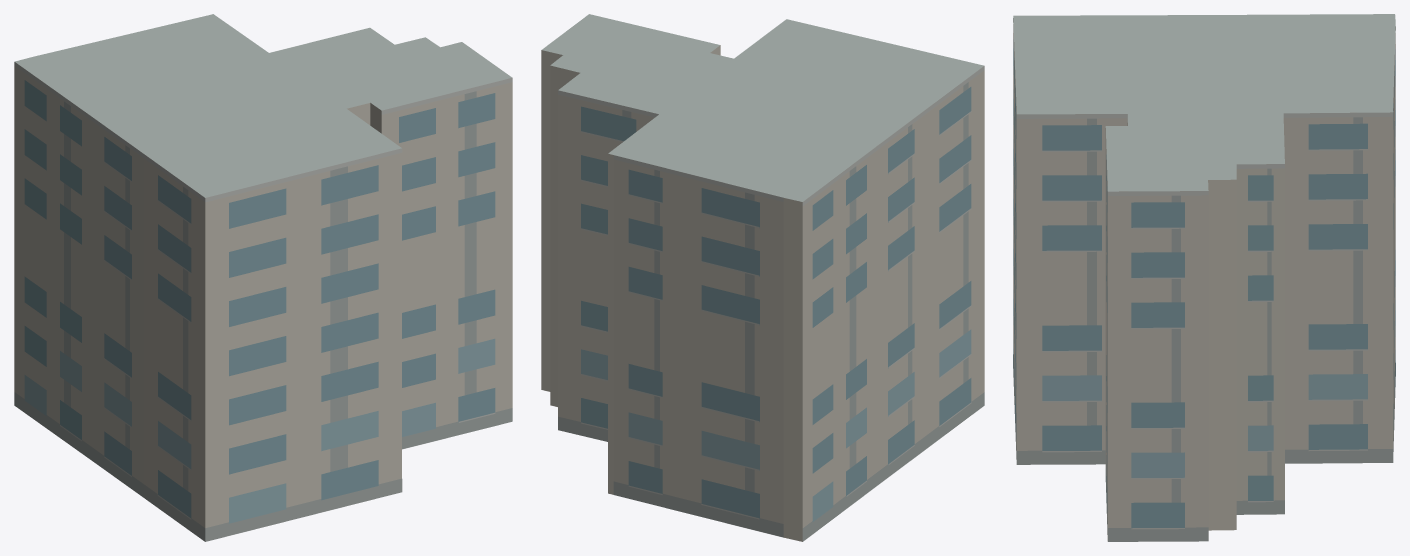
Rendered from survey-upis-32665249.glb.
The picture shows the model from 3 angles, left to right: view 1: azimuth 30°, elevation 25°; view 2: azimuth 150°, elevation 25°; view 3: azimuth 270°, elevation 25°; orthographic projection. The views are drawn at different scales.
Visible parts, largest first — view 1: survey-upis-32665249.tmp; view 2: survey-upis-32665249.tmp; view 3: survey-upis-32665249.tmp.
Part boxes in pixels (bbox=[...]): survey-upis-32665249.tmp: bbox=[14, 14, 512, 541]; survey-upis-32665249.tmp: bbox=[541, 14, 984, 541]; survey-upis-32665249.tmp: bbox=[1013, 14, 1395, 541].
Bounding box in the file's own units: 20.76 × 19.1 × 18.91.
